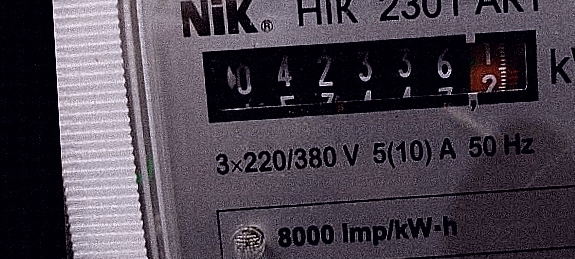0: (232, 60, 254, 96)
1: (479, 37, 494, 67)
2: (313, 51, 335, 88), (478, 71, 498, 93)
3: (354, 45, 375, 84), (392, 43, 414, 80)
4: (273, 51, 294, 89)
6: (431, 44, 455, 80)
screen: (193, 18, 550, 131)
